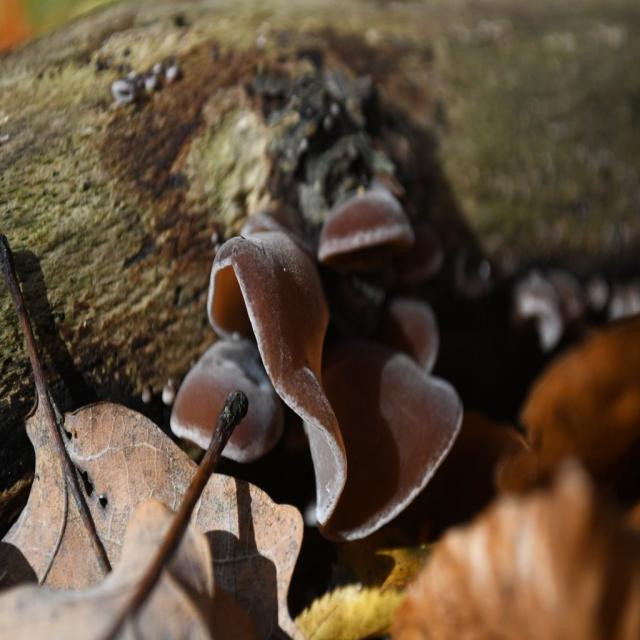Matang: (203, 222, 467, 550), (168, 334, 289, 462), (314, 184, 416, 277)
